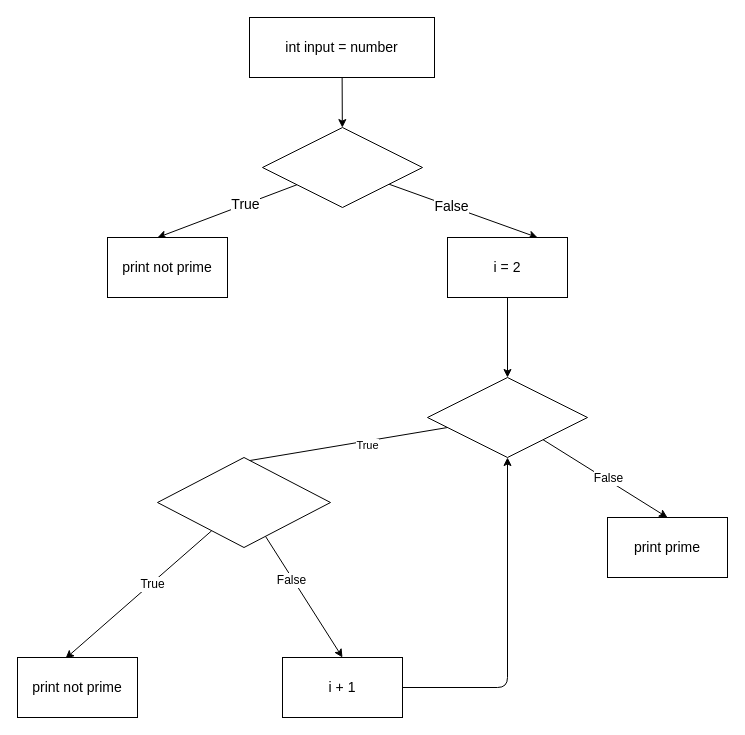
This 745x735 diagram has some shape labels left out. Each missing label, with the centre of its shape:
"i * i <= number" belongs at pixel 507 417.
"number % i == 0" belongs at pixel 243 502.
"number <= 1" belongs at pixel 342 167.
